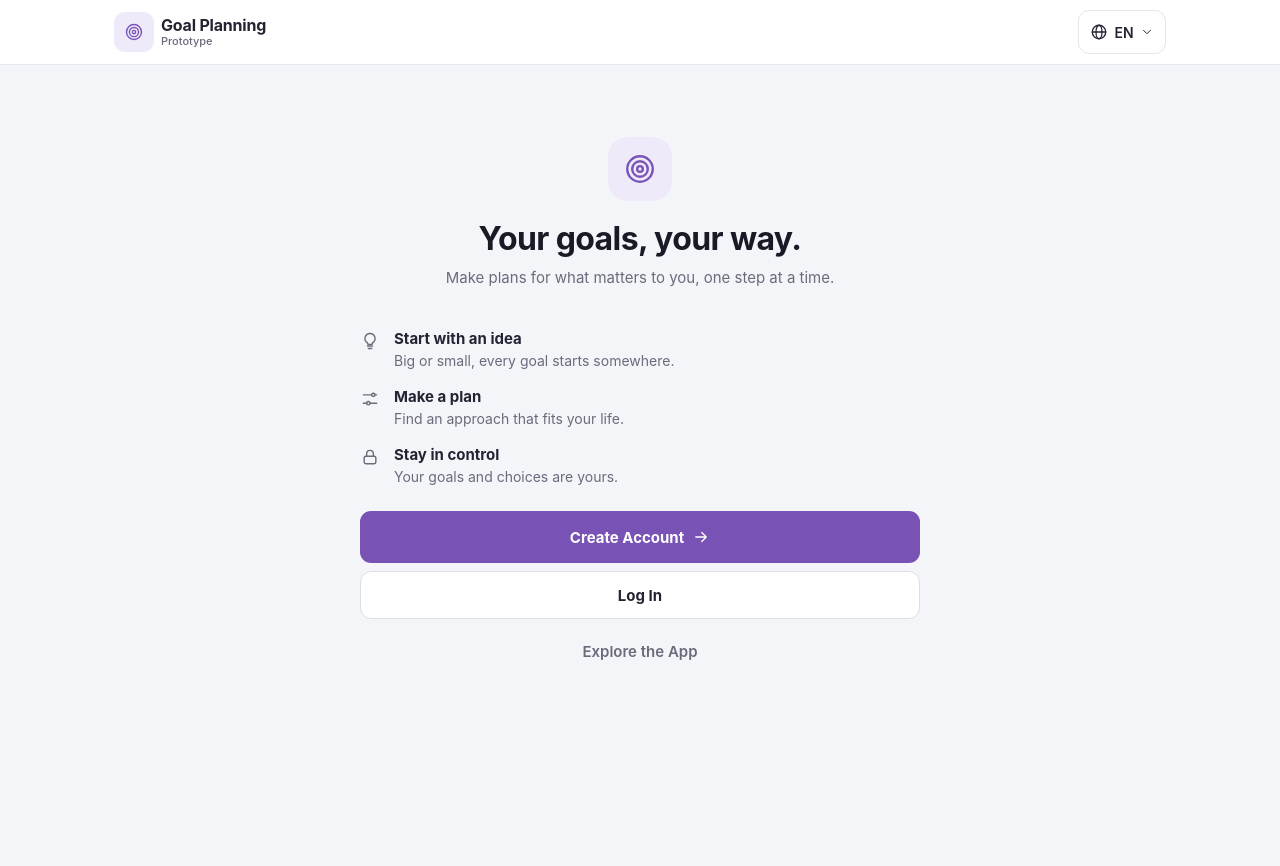
Test: keeps an accessible empty collection and existing Add Bill action
Click the button "Explore the App": [640, 651] box left=360, top=627, right=920, bottom=675
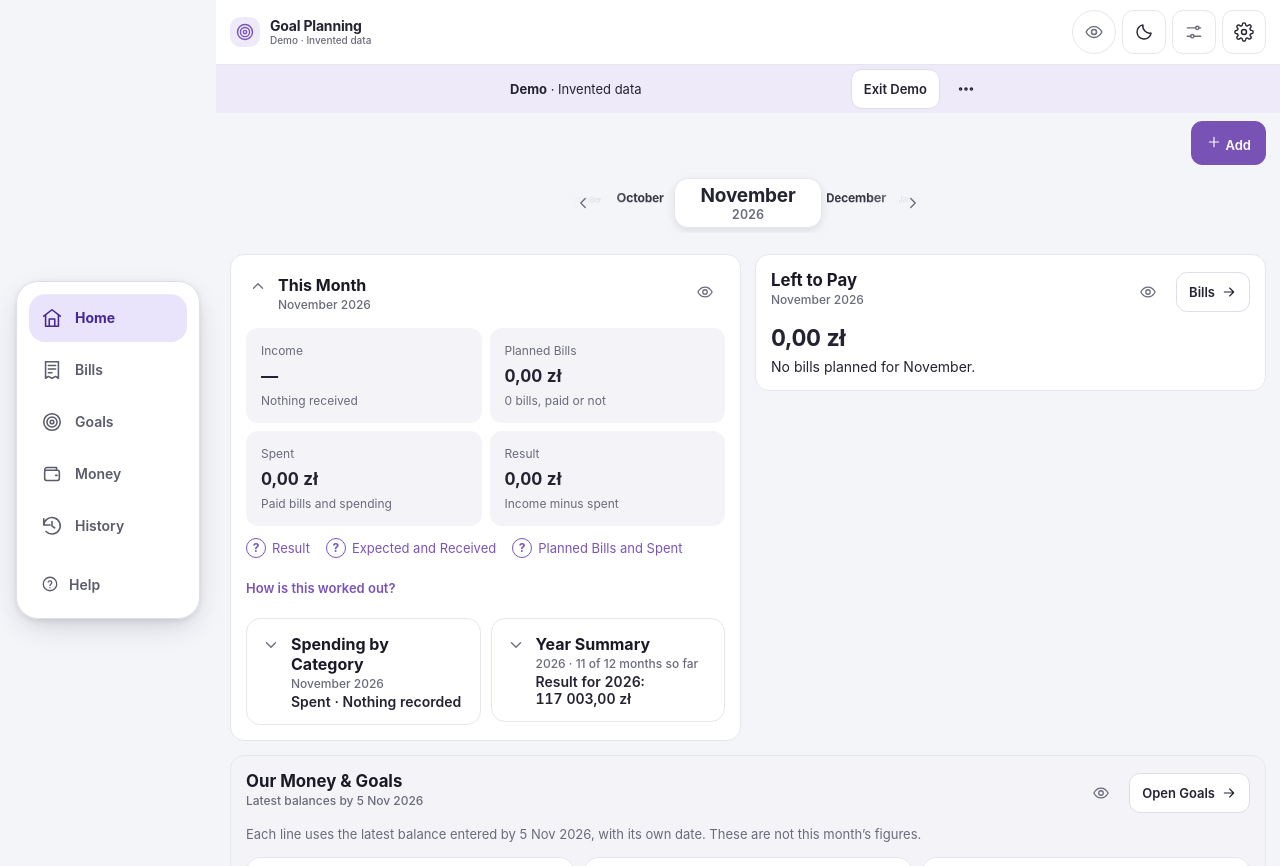
Click the 2nd button "Bills": [108, 370] box left=29, top=346, right=187, bottom=394
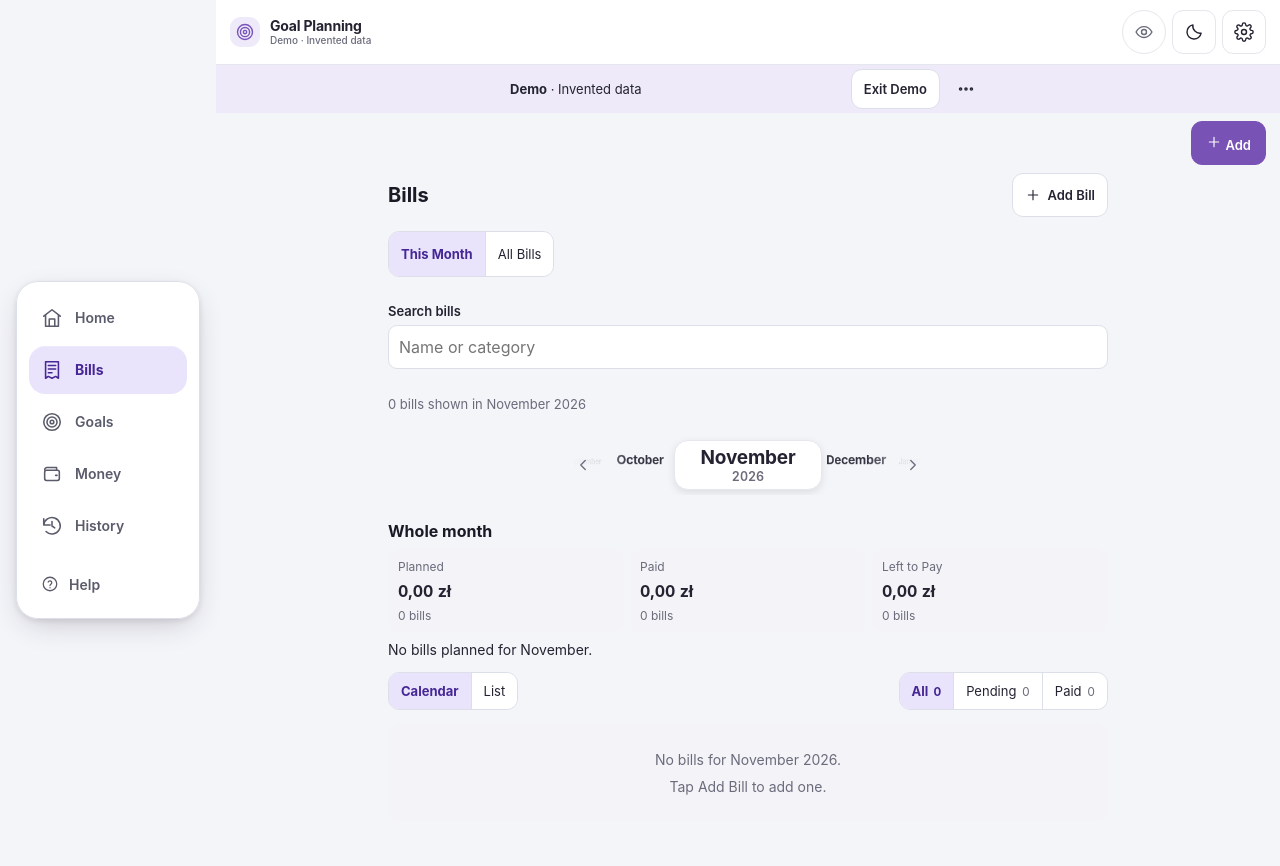
Click the button "All Bills": [519, 254] box left=485, top=232, right=554, bottom=276
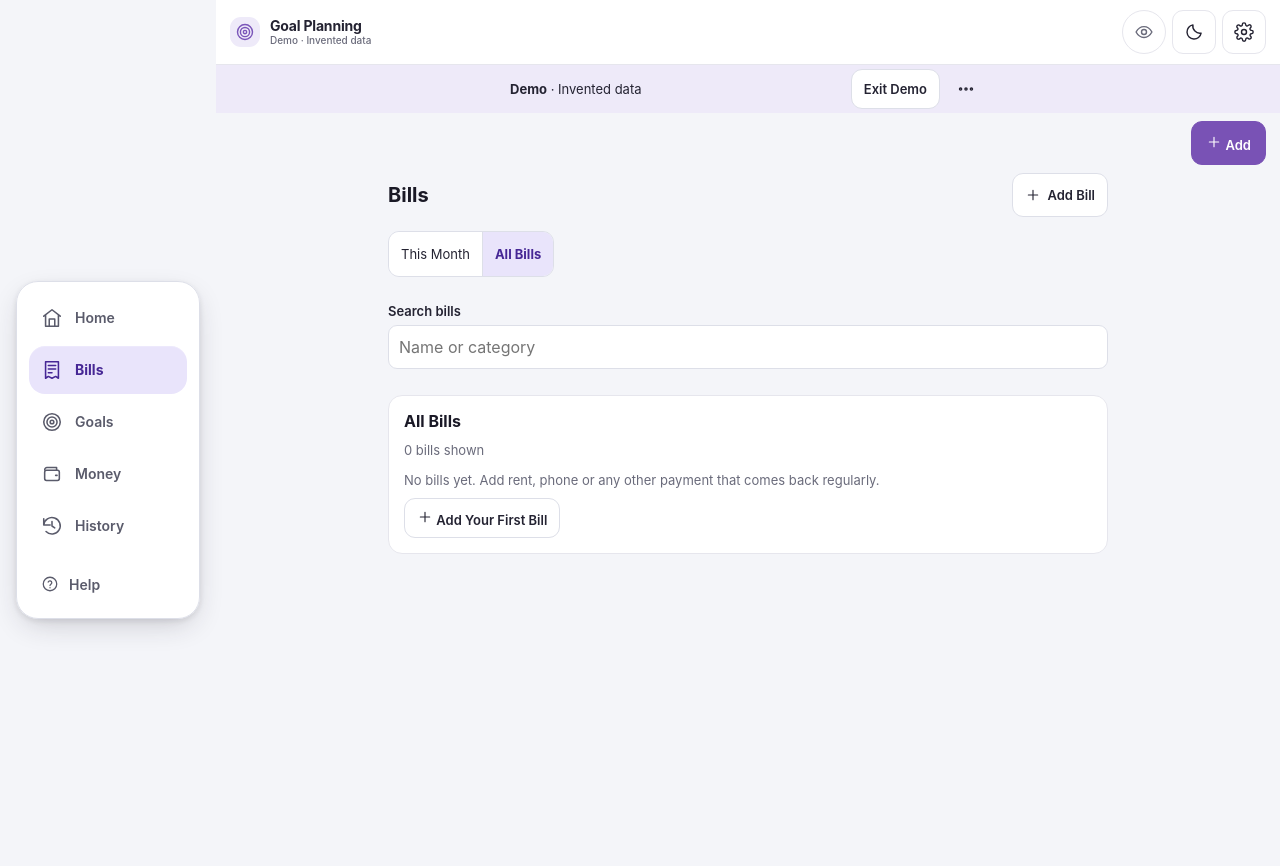
Result: the text "0 bills shown" is shown at left=404, top=442, right=484, bottom=458
Result: the text "No bills yet" is shown at left=404, top=472, right=880, bottom=488
Click the button "Add Your First Bill": [482, 518] box left=404, top=498, right=560, bottom=538
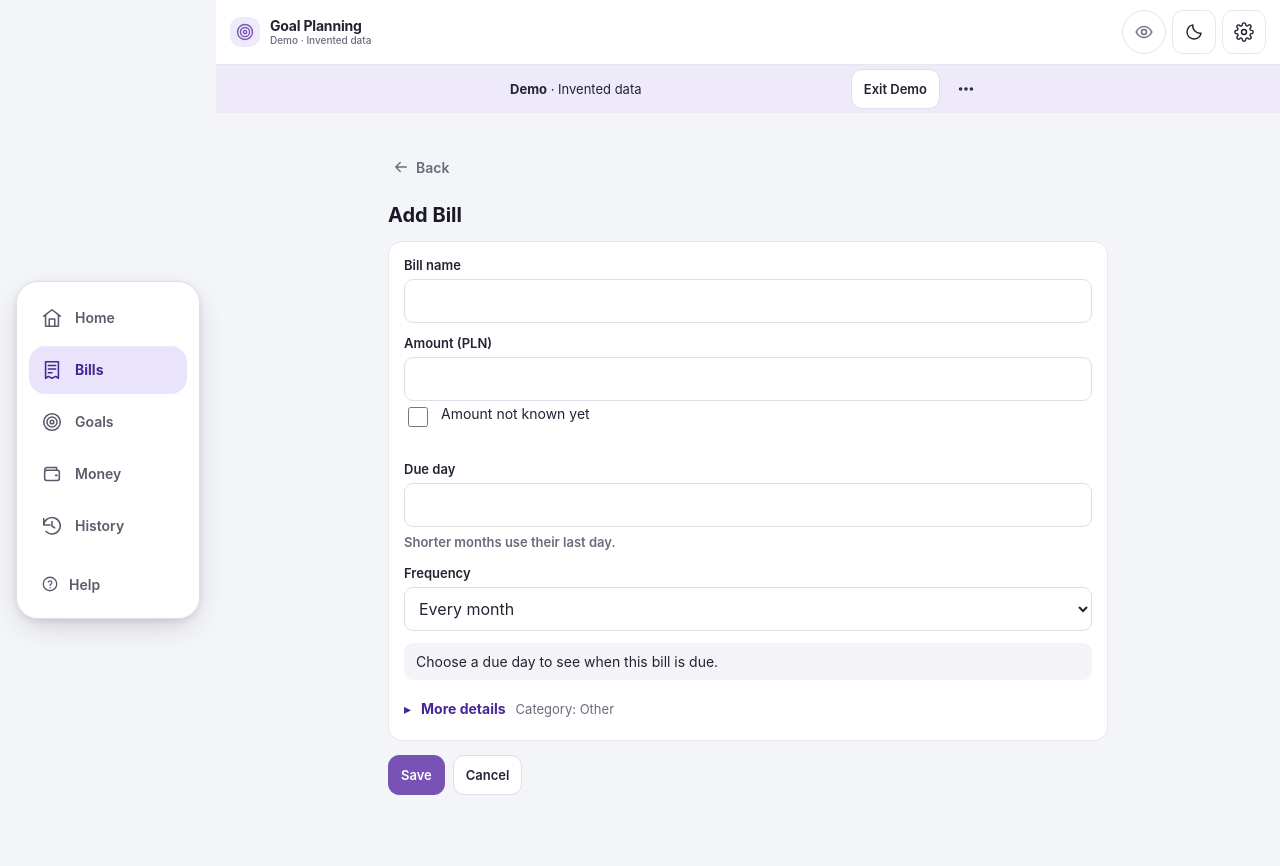
Result: the field labelled "Bill name" is shown at left=404, top=279, right=1092, bottom=323
